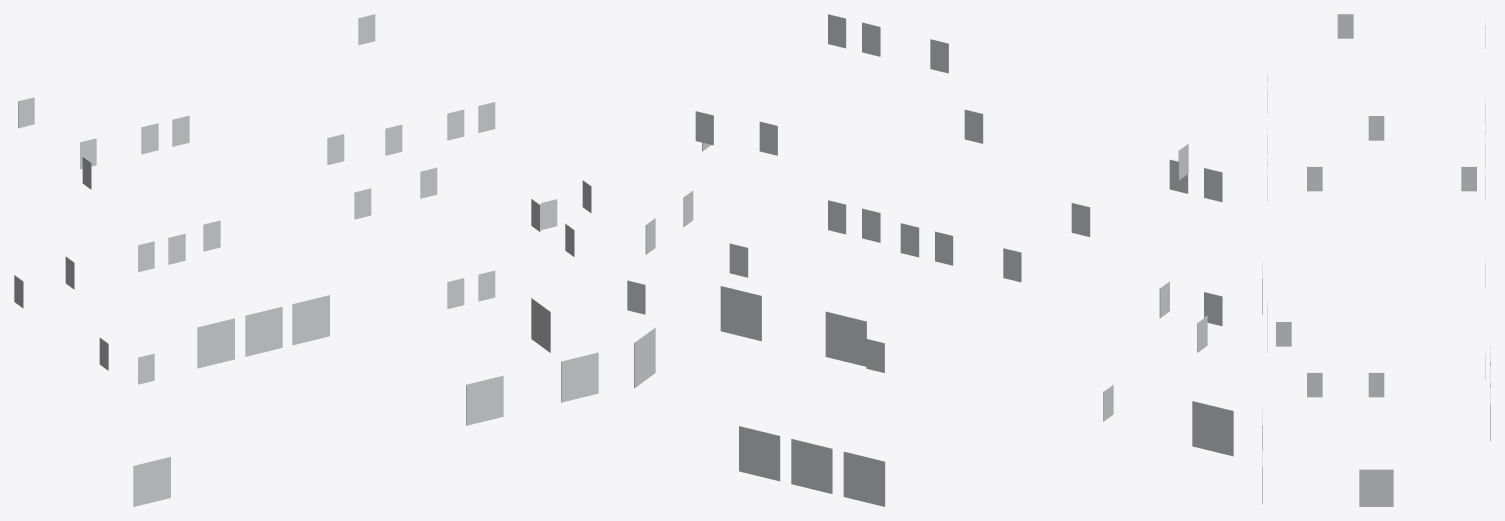
Rendered from env_city_midrise_lit.fbx.
The picture shows the model from 3 angles, left to right: view 1: azimuth 30°, elevation 25°; view 2: azimuth 150°, elevation 25°; view 3: azimuth 270°, elevation 25°; orthographic projection. The views are drawn at different scales.
Visible parts, largest first — view 1: env_city_midrise_lit; view 2: env_city_midrise_lit; view 3: env_city_midrise_lit.
Boxes of the visible parts, <box> form: env_city_midrise_lit: <box>14,14,598,506</box>; env_city_midrise_lit: <box>627,14,1233,506</box>; env_city_midrise_lit: <box>1262,14,1490,506</box>.
Size of the model in its own units: 9134 by 5810 by 4234.
